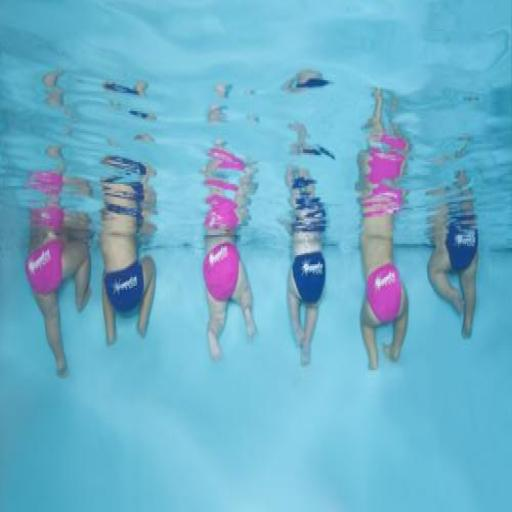swimming: (352, 84, 413, 373), (22, 142, 95, 381), (198, 140, 259, 364), (95, 151, 159, 348), (276, 160, 335, 370), (424, 164, 482, 343)
